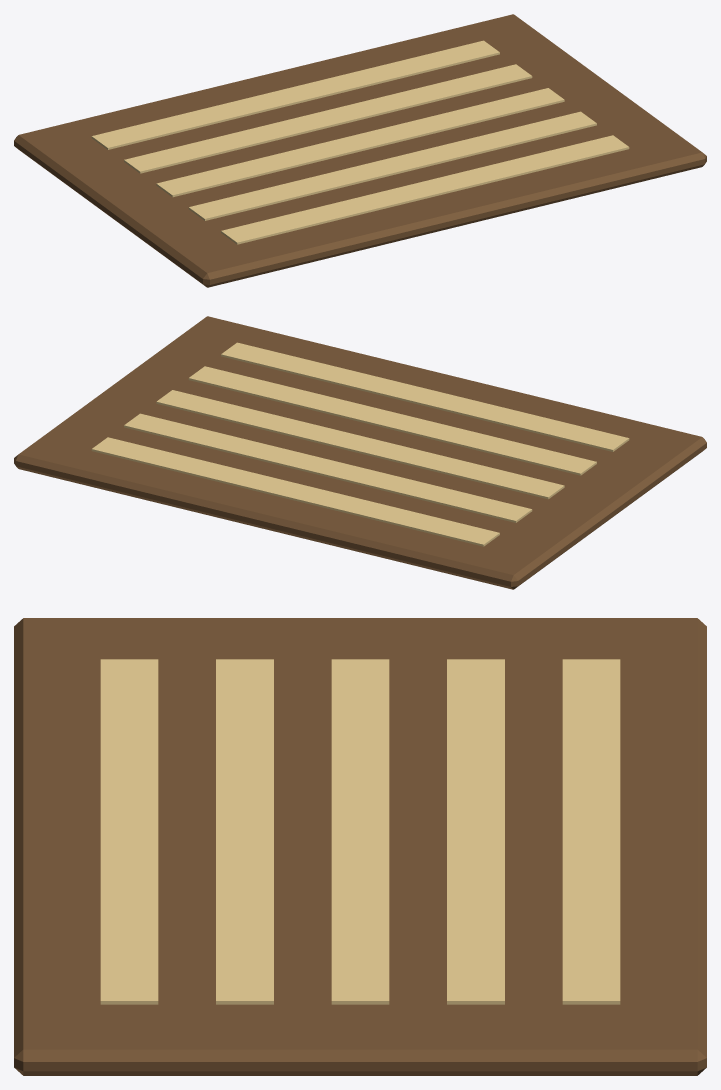
File: exit_mat.glb
The picture shows the model from 3 angles, top to bottom: view 1: azimuth 30°, elevation 25°; view 2: azimuth 150°, elevation 25°; view 3: azimuth 270°, elevation 25°; orthographic projection. The views are drawn at different scales.
Visible parts, largest first — view 1: exit_mat; view 2: exit_mat; view 3: exit_mat.
Part boxes in pixels (box(x1,y1,x2,y2)): exit_mat: box(14, 14, 706, 287); exit_mat: box(14, 316, 706, 589); exit_mat: box(14, 618, 706, 1075).
Size of the model in its own units: 0.9 by 0.0285 by 0.6.
